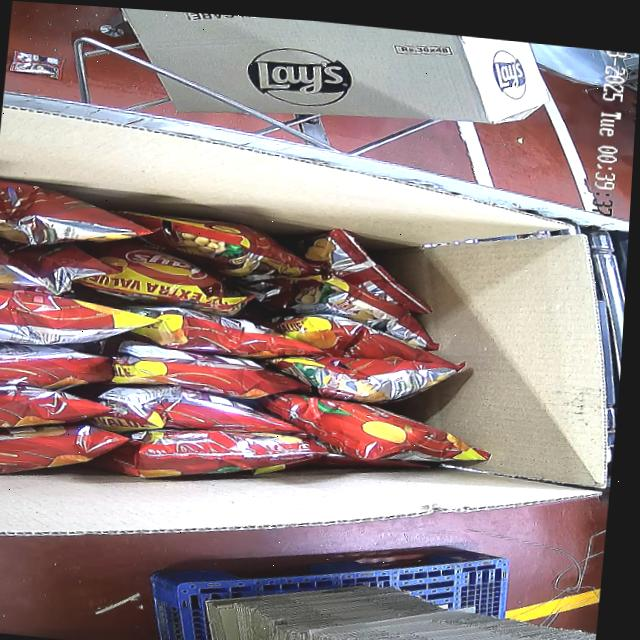MASALA: (0, 177, 511, 528)
